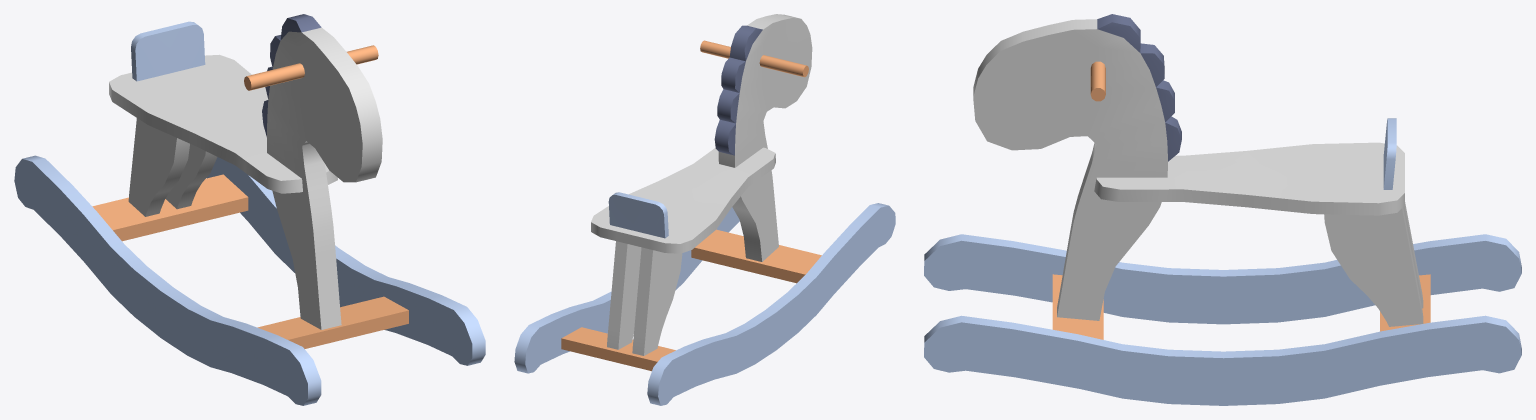
File: WoodenHorse_Whole.fbx
3 renders of one model, left to right at view 1: azimuth 30°, elevation 25°; view 2: azimuth 150°, elevation 25°; view 3: azimuth 270°, elevation 25°, orthographic. The views are drawn at different scales.
Visible parts, largest first — view 1: WoodenHorse_Whole; view 2: WoodenHorse_Whole; view 3: WoodenHorse_Whole.
Boxes of the visible parts, x1=… form: WoodenHorse_Whole: x1=14, y1=14, x2=485, y2=405; WoodenHorse_Whole: x1=514, y1=14, x2=895, y2=405; WoodenHorse_Whole: x1=924, y1=14, x2=1521, y2=405.
Bounding box in the file's own units: 33.8 × 61.45 × 96.83.
